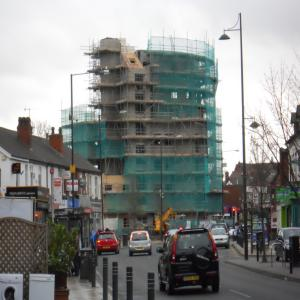Vehicle-registration-plate: (184, 276, 200, 282)
